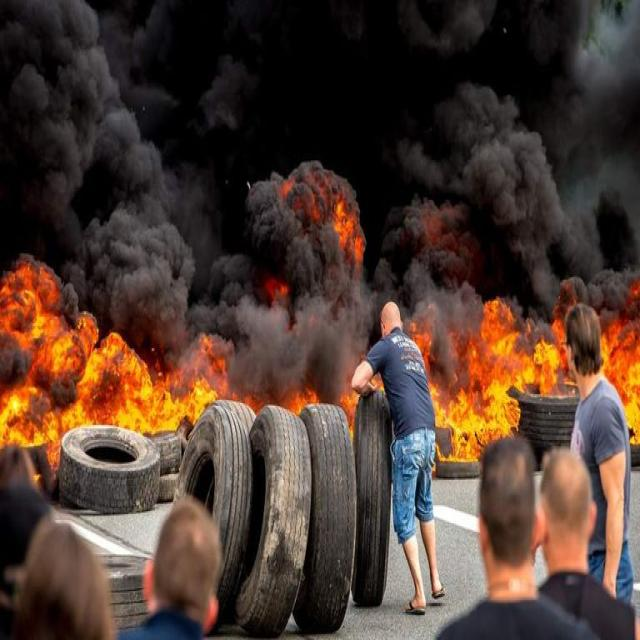fire: (0, 261, 217, 481), (423, 298, 562, 475), (553, 288, 640, 444), (422, 202, 469, 253), (334, 194, 363, 260), (339, 373, 360, 442)
